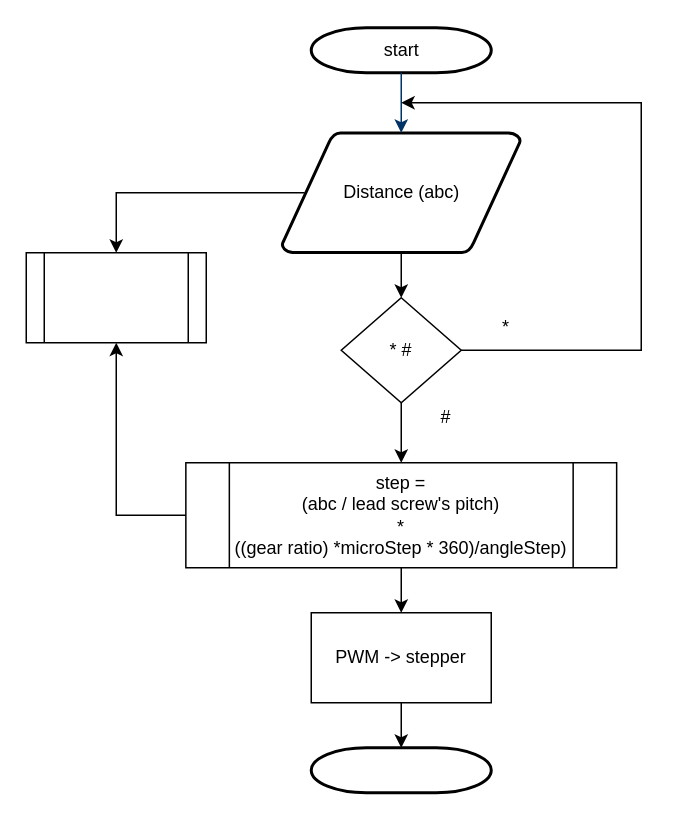
This 680x819 diagram has some shape labels left out. The centre of each missing label's shape, as x and y in pixels:
"end" belongs at (400,770).
"LCD" belongs at (115,297).
